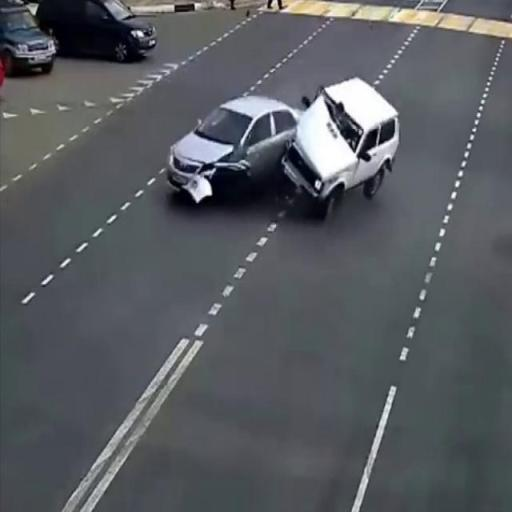小汽车: (36, 2, 161, 64), (1, 4, 58, 76)
小汽车撞小汽车: (168, 74, 406, 214)
